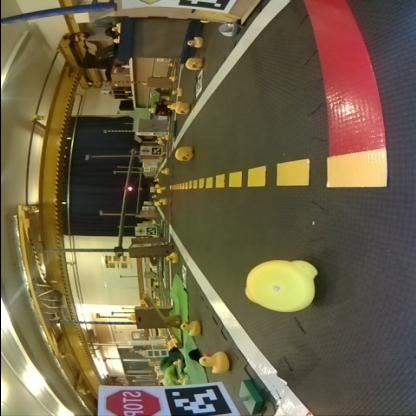Duckie: (245, 259, 318, 311), (199, 351, 227, 373), (178, 320, 200, 335), (173, 146, 191, 160), (186, 56, 202, 70), (186, 35, 202, 47), (174, 102, 186, 114), (164, 251, 176, 262), (160, 168, 168, 173), (158, 198, 166, 202)
QR code: (170, 384, 230, 412), (192, 70, 200, 96), (147, 228, 154, 234)
Stop sign: (102, 390, 160, 414)
Traffic light: (124, 186, 131, 190)
